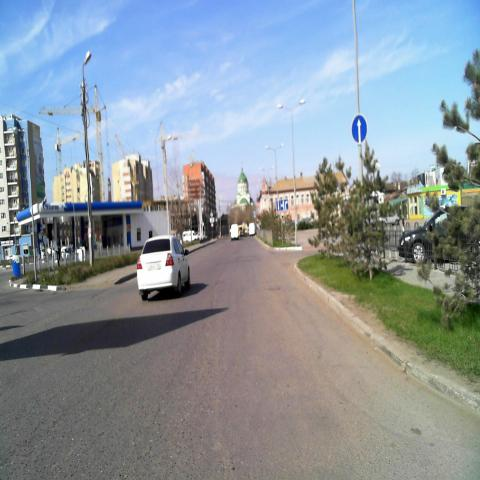4_1_1: (352, 114, 366, 143)
5_15_7: (276, 198, 288, 211)
